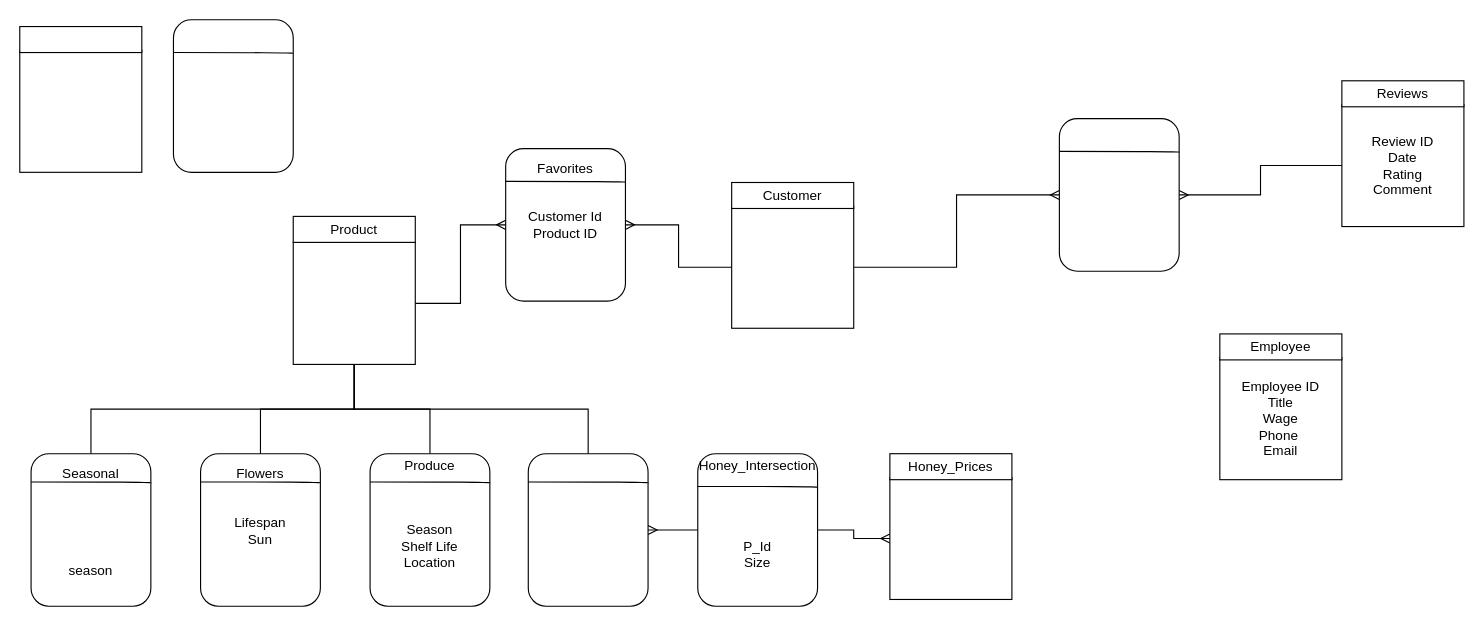
The diagram is 1484 pixels wide and 626 high, and some of its shapes have lost their labels. Here are the shapes that lost their labels. From the top down, the centre of each, then its label:
point 1118,194: Cus_Rev_Intersection Customer ID Review ID
point 792,266: Customer ID First Name Last Name Email Password
point 353,302: prod id name image in stock
point 587,529: Honey
point 950,537: Size Price
